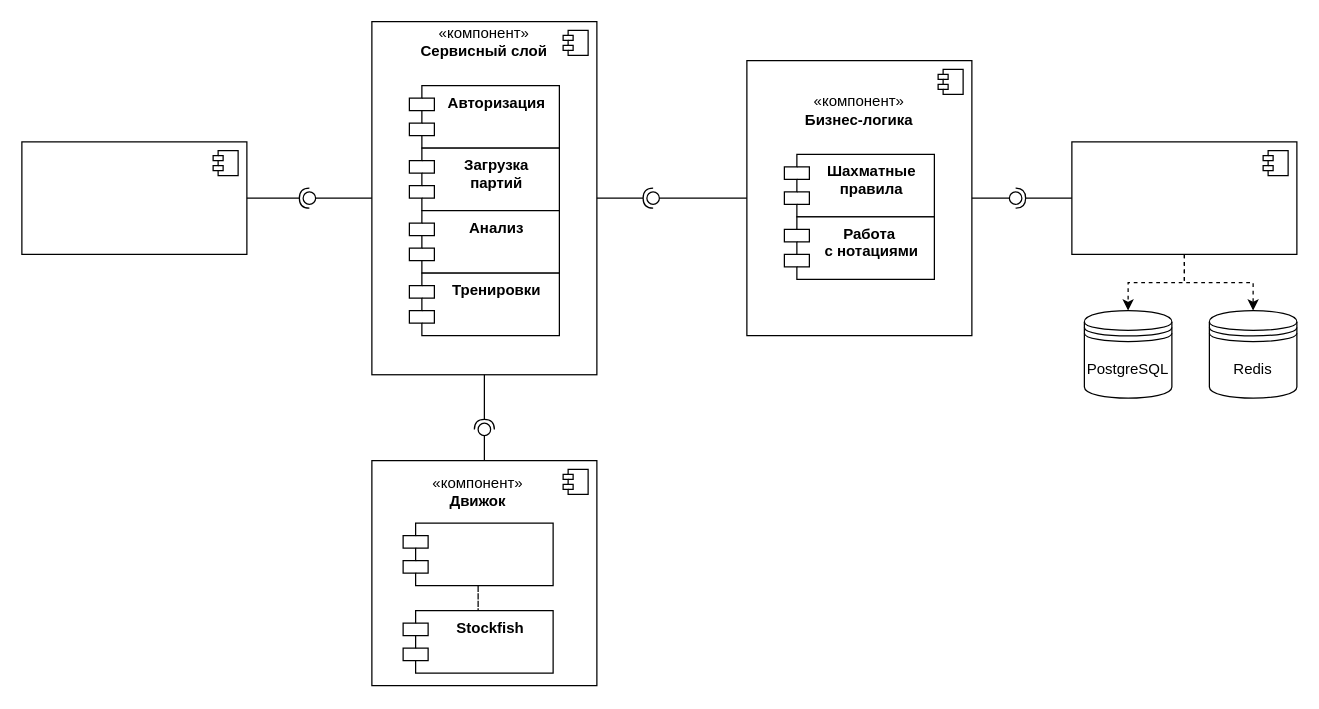
Image size: 1319x709. Some labels were removed from this diagram. Each missing label, with the centre of its shape:
"«component» Пользовательский интерфейс" goes at (134,197).
"«компонент» Доступ к данным" goes at (1184,197).
"Модуль совместимости" goes at (477,554).
